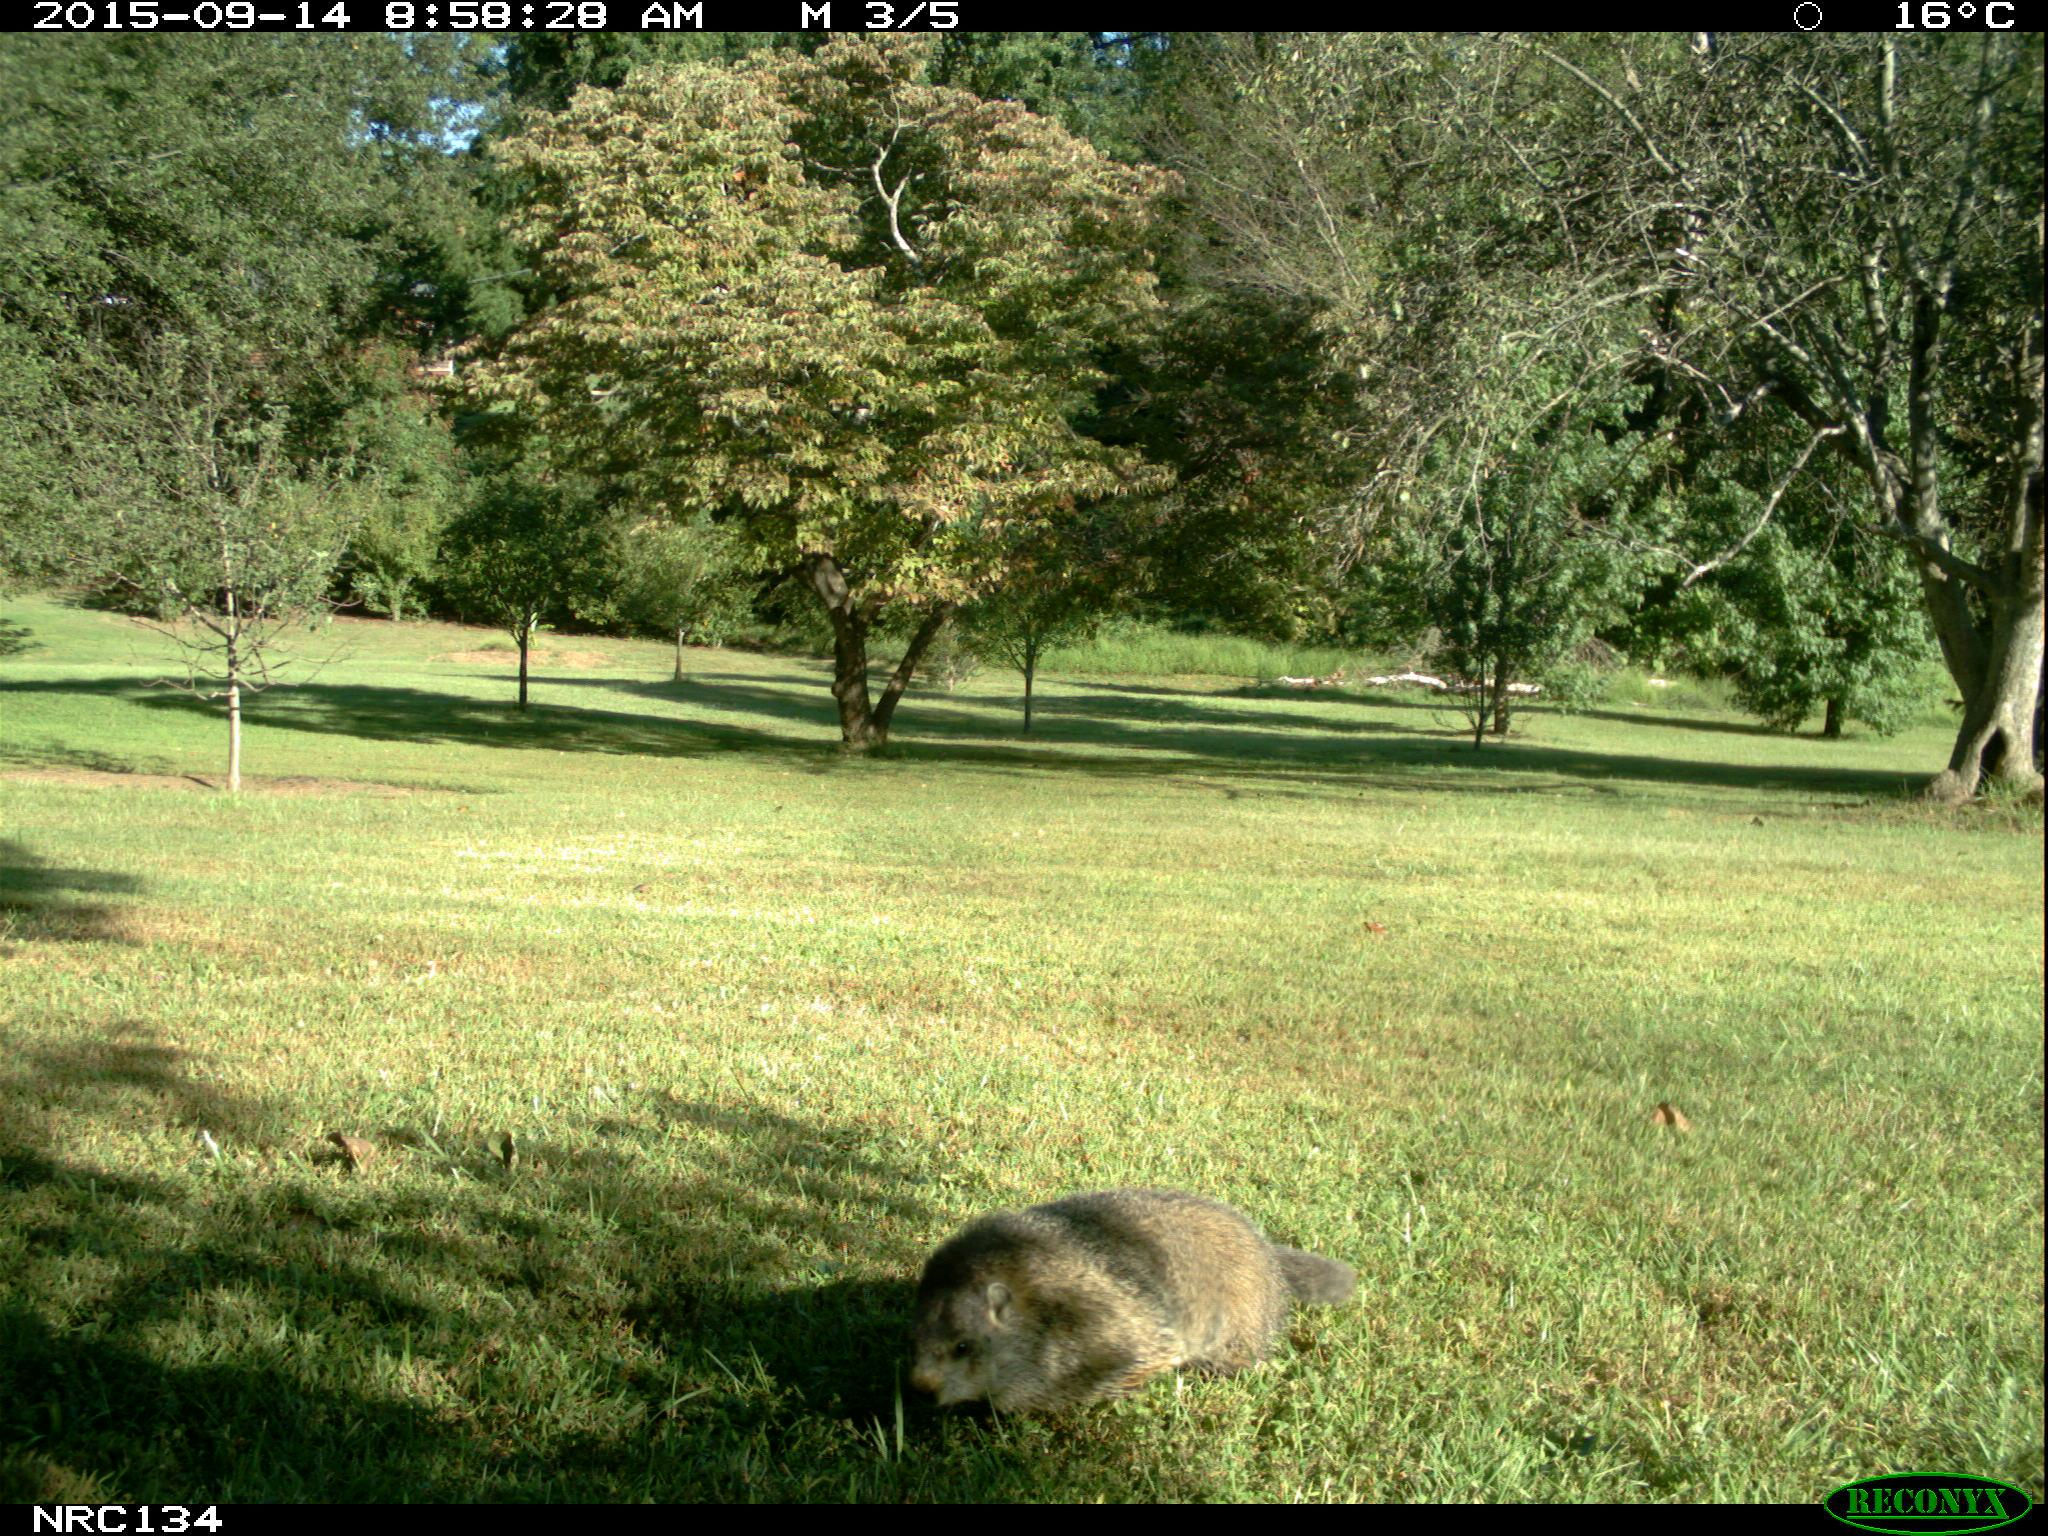Animal: (901, 1184, 1367, 1421)
